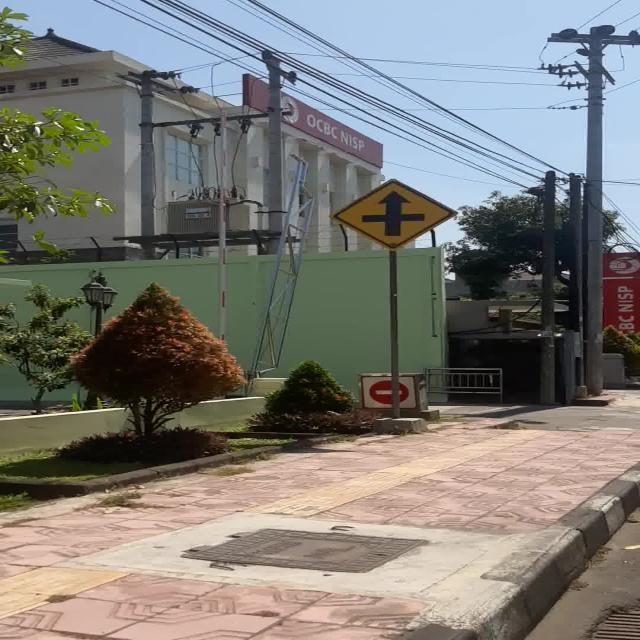Persimpangan 3 Prioritas: (331, 178, 458, 252)
